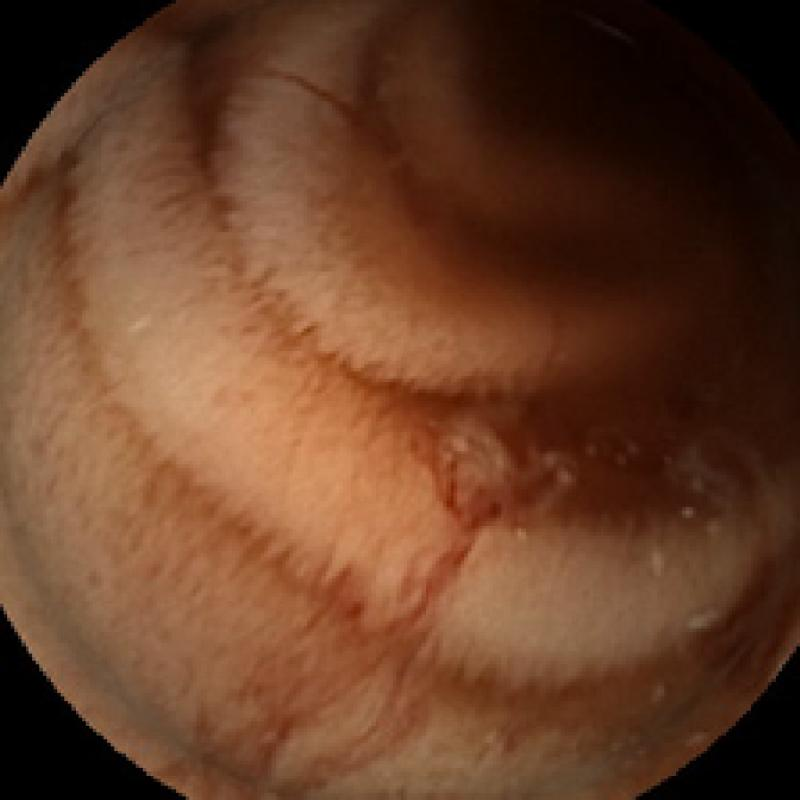bleeding: (239, 457, 507, 757)
